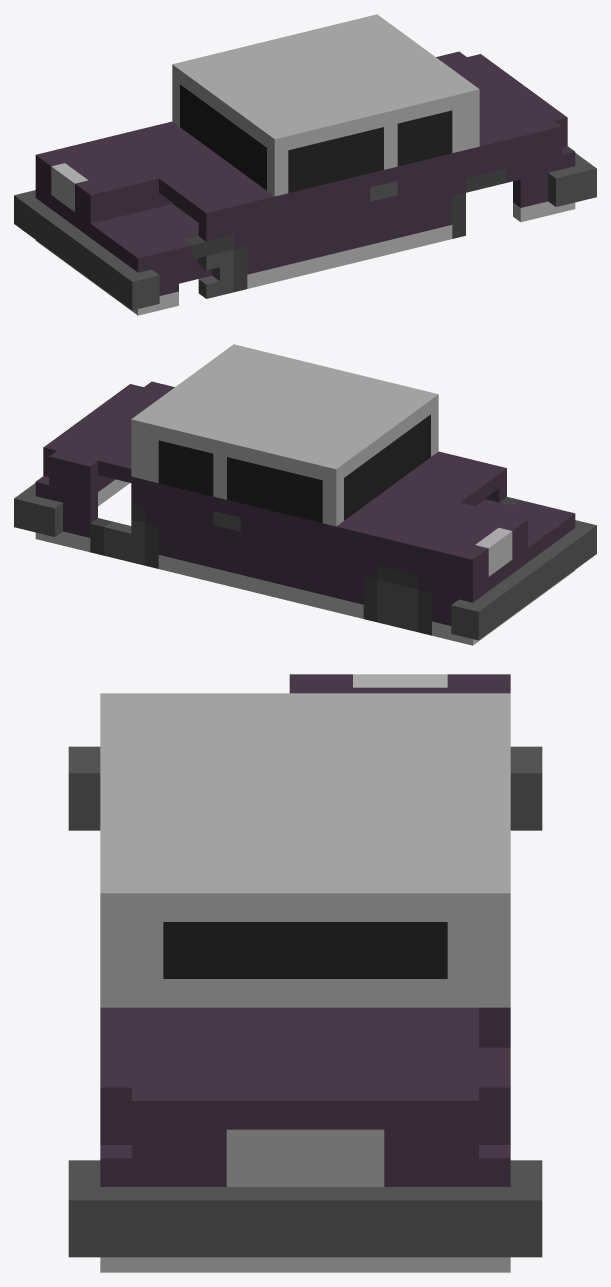
The model's file is voiture1pinkdestroyed.obj.
3 renders of one model, top to bottom at view 1: azimuth 30°, elevation 25°; view 2: azimuth 150°, elevation 25°; view 3: azimuth 270°, elevation 25°, orthographic. The views are drawn at different scales.
Visible parts, largest first — view 1: voiture1pinkdestroyed; view 2: voiture1pinkdestroyed; view 3: voiture1pinkdestroyed.
Part boxes in pixels (x1,y1,x2,y2): voiture1pinkdestroyed: (14, 14, 596, 315); voiture1pinkdestroyed: (14, 344, 596, 645); voiture1pinkdestroyed: (68, 674, 542, 1272).
Size of the model in its own units: 34 by 10 by 15.
1 material, 1 textured.
